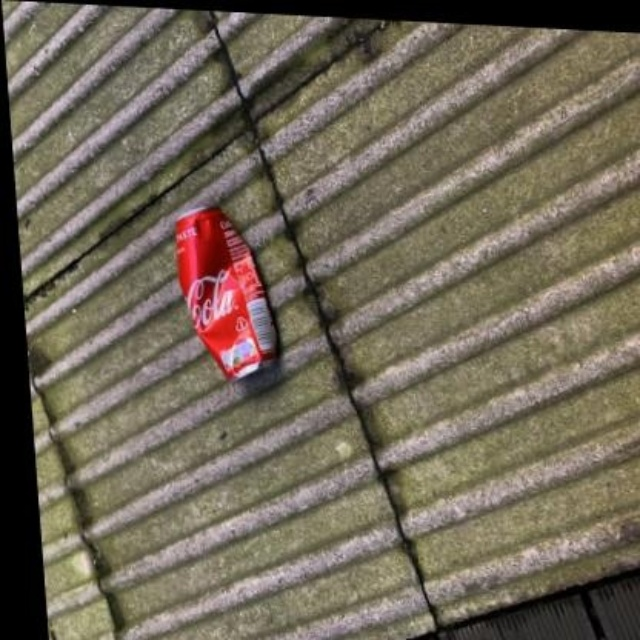trash: (175, 208, 277, 378)
